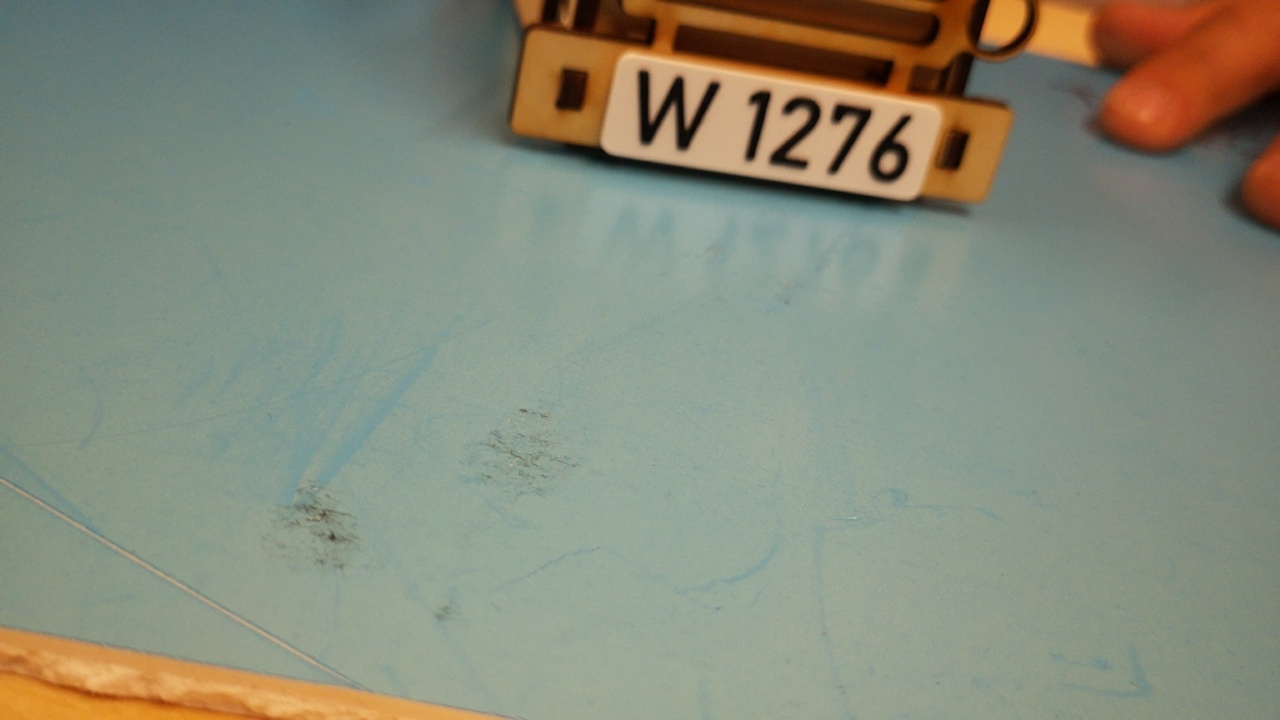license_plate: (597, 49, 945, 203)
